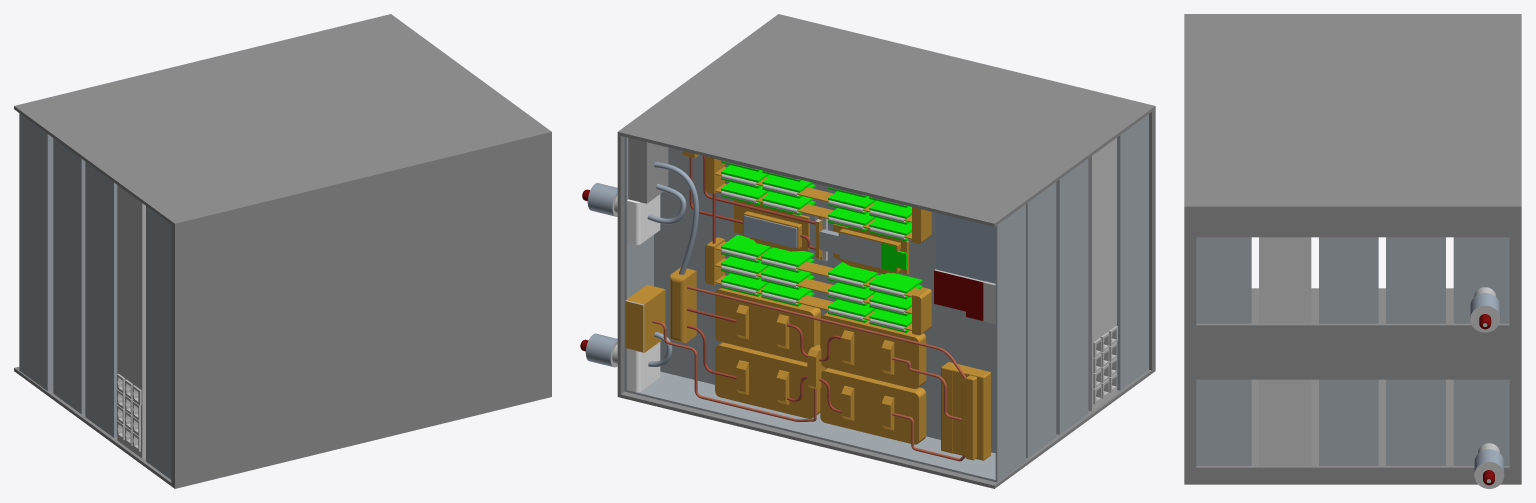
File: Unnamed-MUSICA_ASM.gltf
The picture shows the model from 3 angles, left to right: view 1: azimuth 30°, elevation 25°; view 2: azimuth 150°, elevation 25°; view 3: azimuth 270°, elevation 25°; orthographic projection. The views are drawn at different scales.
Visible parts, largest first — view 1: CHASIS_MUSICA_AF0, DUMMY_DS66-5_AF0, DUMMY_DS66-5_AF1, SD666-5_FRONT_PANEL, CONNECTION_PORTS_AF0, DUMMY_DS66-5, SD666-5; view 2: CHASIS_MUSICA_AF0, SD666-5, GPU, DUMMY_DS66-5_AF1, DUMMY_DS66-5, SD666-5_FRONT_PANEL, DUMMY_DS66-5_AF0, CONNECTION_PORTS_AF0, MEZZANINE, INTERNAL_DRIVERS, PROCESSOR_COOLING_SYSTEM001, COOL_PLATE_1 (+33 smaller); view 3: CHASIS_MUSICA_AF0, DUMMY_DS66-5_AF0, DUMMY_DS66-5_AF1, DUMMY_DS66-5, CONNECTION_PORTS_AF0, SD666-5, COOLING_PIPE, COOLING_PIPE001.
Part boxes in pixels (x1,y1,x2,y2): CHASIS_MUSICA_AF0: (14,14,551,488); DUMMY_DS66-5_AF0: (53,138,85,414); DUMMY_DS66-5_AF1: (85,161,117,437); SD666-5_FRONT_PANEL: (19,113,49,391); CONNECTION_PORTS_AF0: (117,185,145,458); DUMMY_DS66-5: (146,206,171,479); SD666-5: (49,135,53,390); CHASIS_MUSICA_AF0: (617,14,1155,488); SD666-5: (624,137,995,481); GPU: (670,267,926,444); DUMMY_DS66-5_AF1: (1056,159,1088,434); DUMMY_DS66-5: (1117,114,1148,390); SD666-5_FRONT_PANEL: (995,204,1025,482); DUMMY_DS66-5_AF0: (1026,182,1056,458); CONNECTION_PORTS_AF0: (1088,138,1117,411); MEZZANINE: (941,362,990,460); INTERNAL_DRIVERS: (935,213,995,283); PROCESSOR_COOLING_SYSTEM001: (705,237,931,335); COOL_PLATE_1: (734,200,908,274); CHASIS_MUSICA_AF0: (1184,14,1521,484); DUMMY_DS66-5_AF0: (1386,237,1445,465); DUMMY_DS66-5_AF1: (1319,237,1378,465); DUMMY_DS66-5: (1196,237,1251,465); CONNECTION_PORTS_AF0: (1259,237,1311,465); SD666-5: (1453,237,1509,465); COOLING_PIPE: (1474,443,1504,488); COOLING_PIPE001: (1470,287,1500,332).
Size of the model in its own units: 0.693 by 0.41 by 0.4512.
